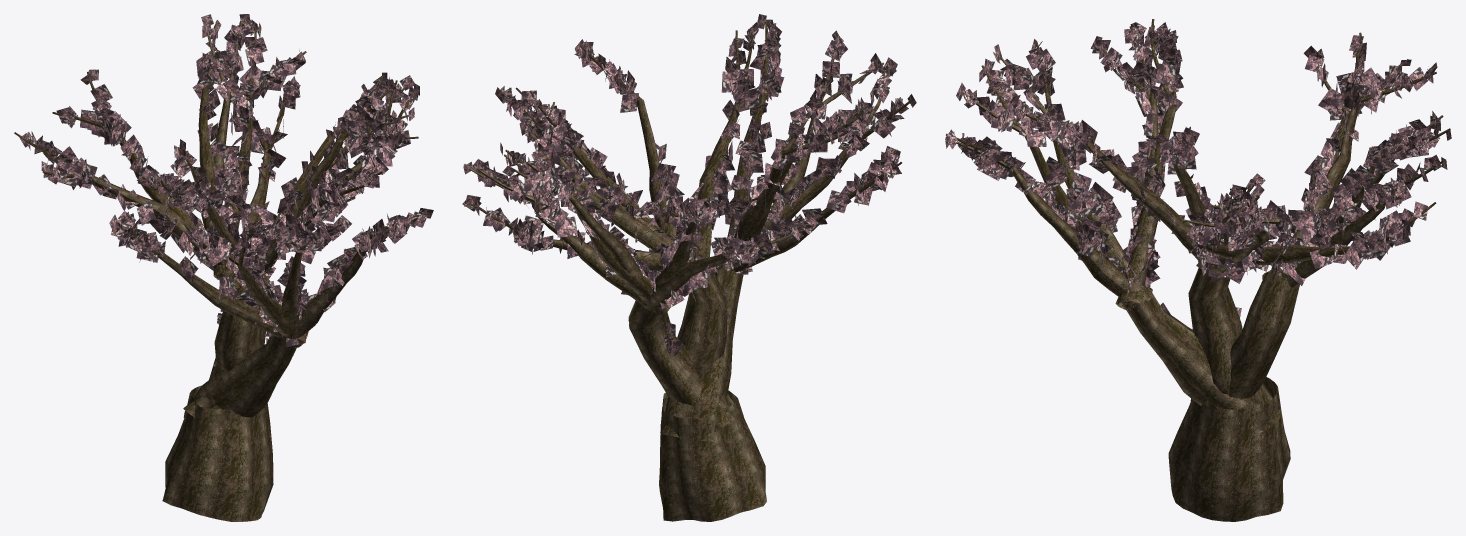
The model's file is blossom_4x_3.glb.
The picture shows the model from 3 angles, left to right: view 1: azimuth 30°, elevation 25°; view 2: azimuth 150°, elevation 25°; view 3: azimuth 270°, elevation 25°; orthographic projection. The views are drawn at different scales.
Visible parts, largest first — view 1: blossom; view 2: blossom; view 3: blossom.
Part boxes in pixels (x1,y1,x2,y2): blossom: (14, 14, 433, 521); blossom: (462, 14, 916, 521); blossom: (945, 19, 1451, 521).
Bounding box in the file's own units: 49.61 × 55.23 × 56.02.
Materials: 2 (2 with a texture image).
